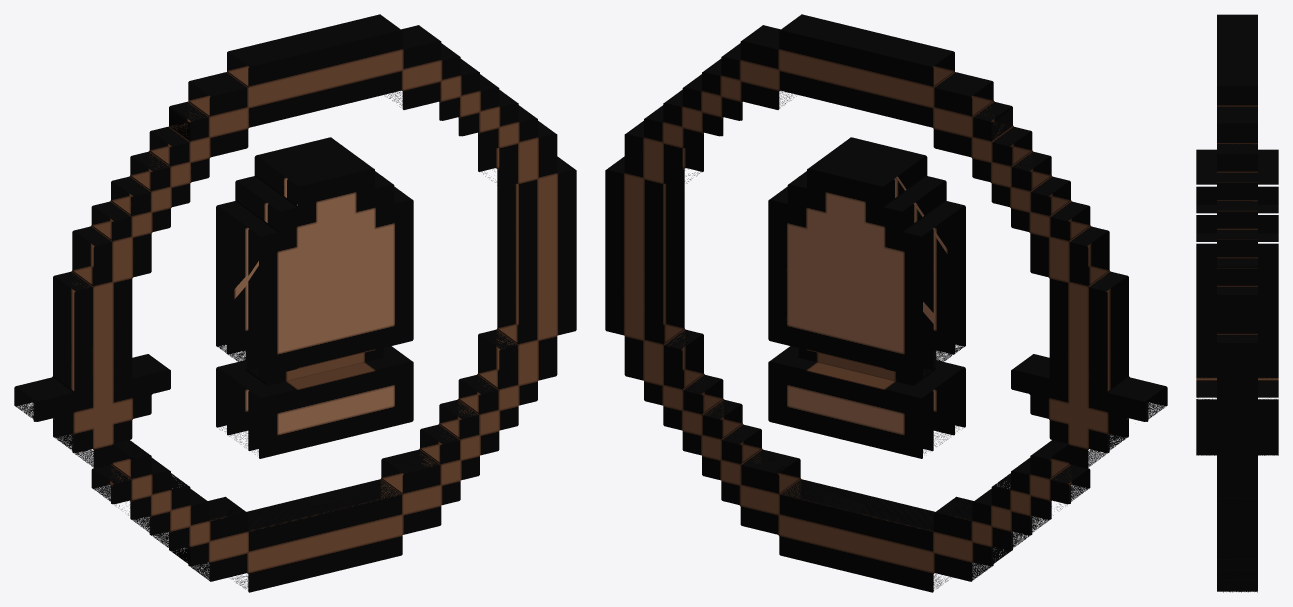
The model's file is Dexterity.fbx.
3 renders of one model, left to right at view 1: azimuth 30°, elevation 25°; view 2: azimuth 150°, elevation 25°; view 3: azimuth 270°, elevation 25°, orthographic. The views are drawn at different scales.
Visible parts, largest first — view 1: Dexterity; view 2: Dexterity; view 3: Dexterity.
Boxes of the visible parts, x1=… form: Dexterity: x1=14, y1=14, x2=576, y2=592; Dexterity: x1=605, y1=14, x2=1167, y2=592; Dexterity: x1=1196, y1=14, x2=1278, y2=592.
Size of the model in its own units: 1.46 by 1.35 by 0.2.
